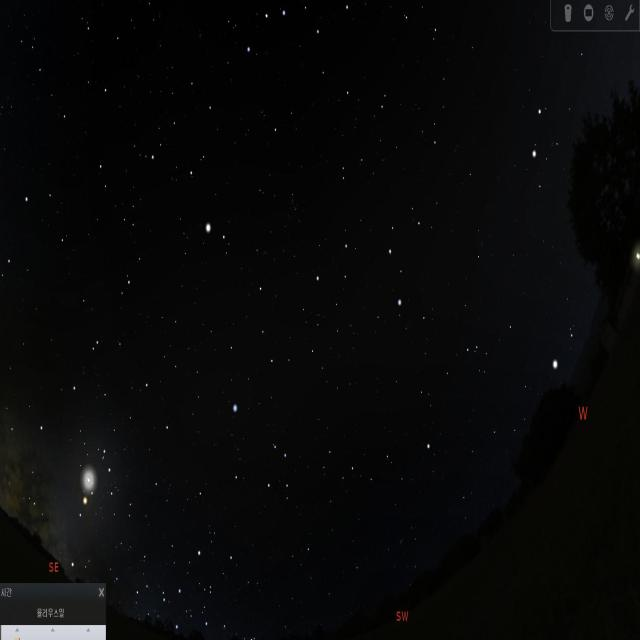bootes: (167, 75, 228, 247)
canis_minor: (543, 324, 581, 388)
gemini: (527, 102, 618, 213)
leo: (309, 200, 435, 327)
moon: (69, 458, 104, 508)
scorpius: (67, 432, 125, 527)
